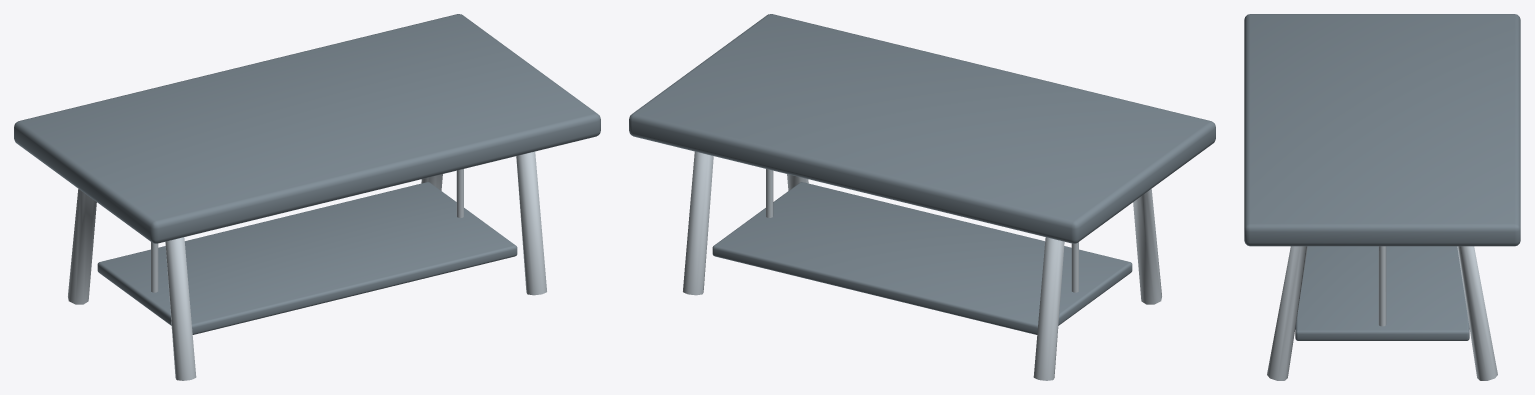
File: coffee-table.glb
The picture shows the model from 3 angles, left to right: view 1: azimuth 30°, elevation 25°; view 2: azimuth 150°, elevation 25°; view 3: azimuth 270°, elevation 25°; orthographic projection. The views are drawn at different scales.
Parts seen in each view (by area): view 1: coffee-table; view 2: coffee-table; view 3: coffee-table.
Part boxes in pixels (left/top/right/bottom): coffee-table: left=14, top=14, right=600, bottom=380; coffee-table: left=629, top=14, right=1215, bottom=380; coffee-table: left=1244, top=14, right=1520, bottom=380.
Size of the model in its own units: 1.1 by 0.42 by 0.6.
